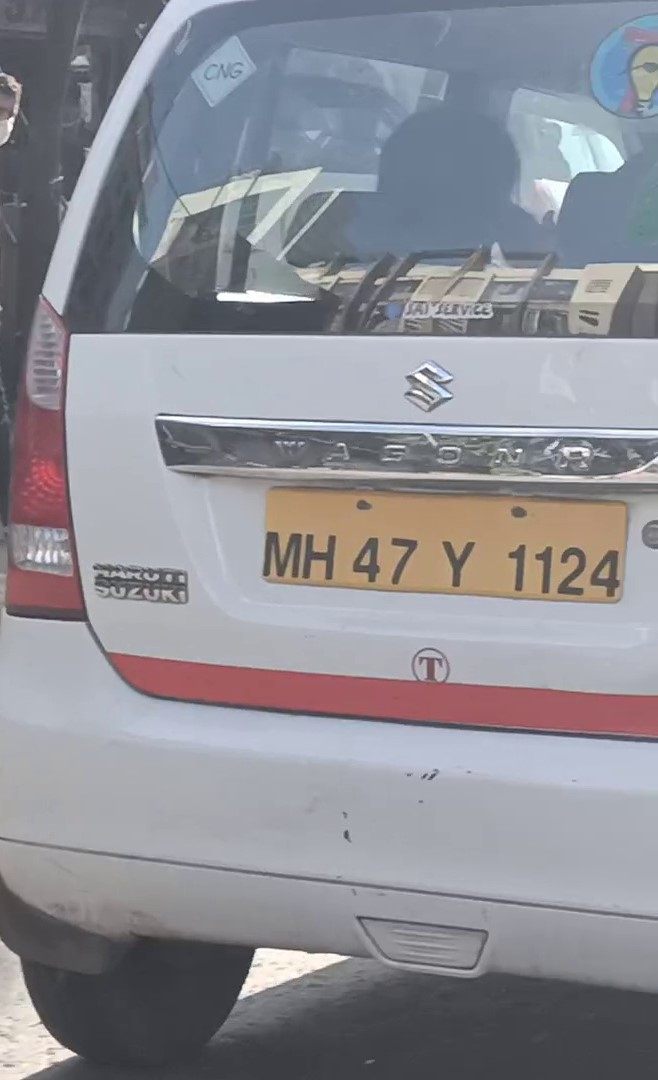MH47Y1124: (266, 486, 628, 605)
